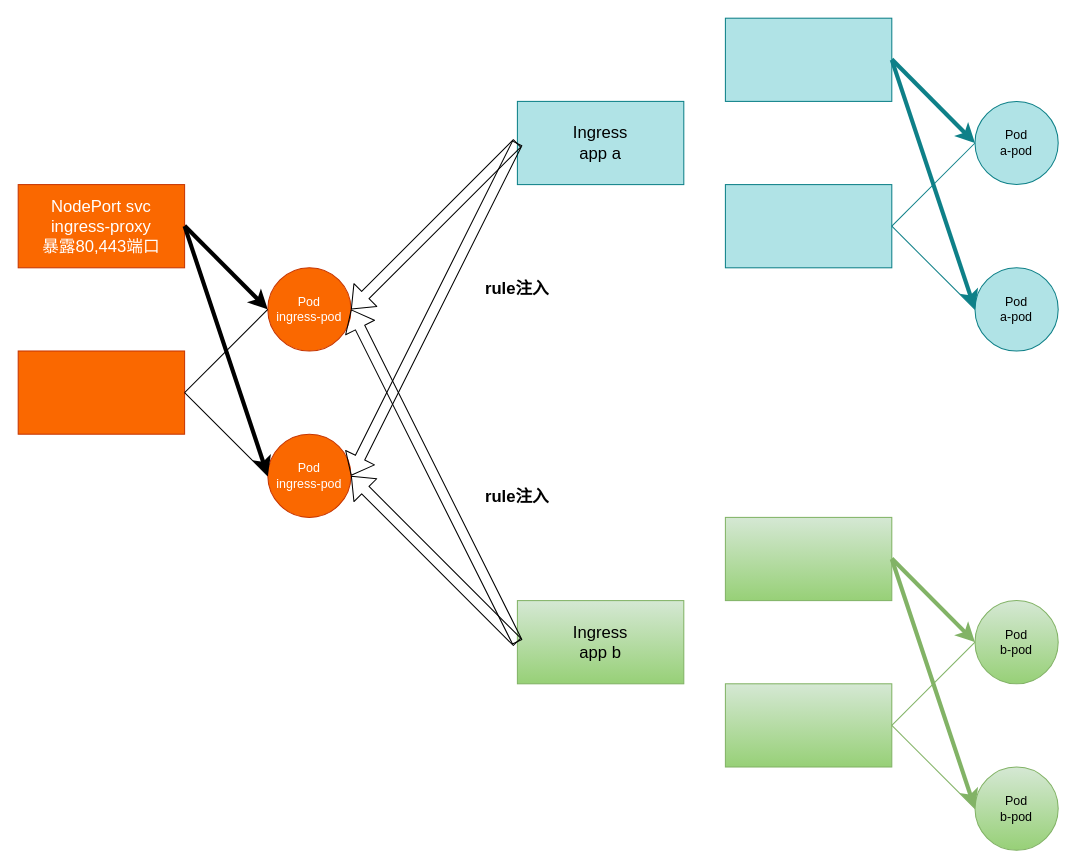
The diagram is 1076 pixels wide and 868 high, and some of its shapes have lost their labels. Here are the shapes that lost their labels. From the top down, the centre of each, then its label:
the point at 808,59: ClusterIP svc app a
the point at 808,226: Deployment app a
the point at 101,392: Deployment ingress-controller
the point at 808,558: ClusterIP svc app b
the point at 808,725: Deployment app b
